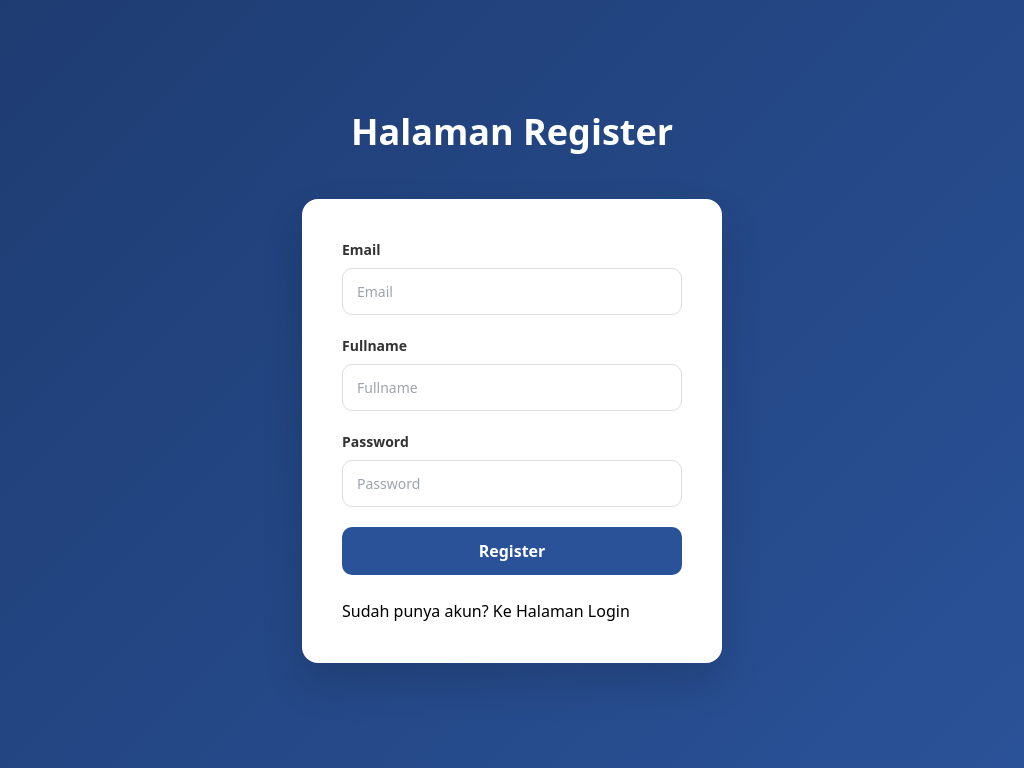
Scenario: Register Page › api error register
Type "test@mail.com" into the field with placeholder "Email" at (512, 292), box [342,268,682,315]
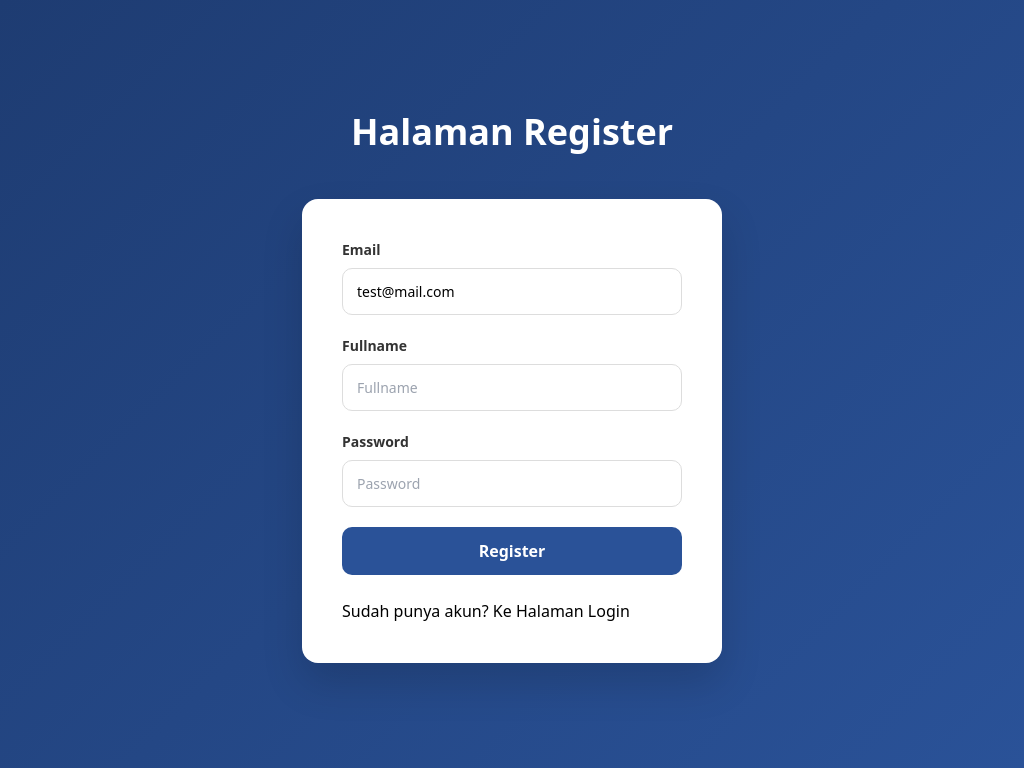
Type "Test User" into the field with placeholder "Fullname" at (512, 388), box [342,364,682,411]
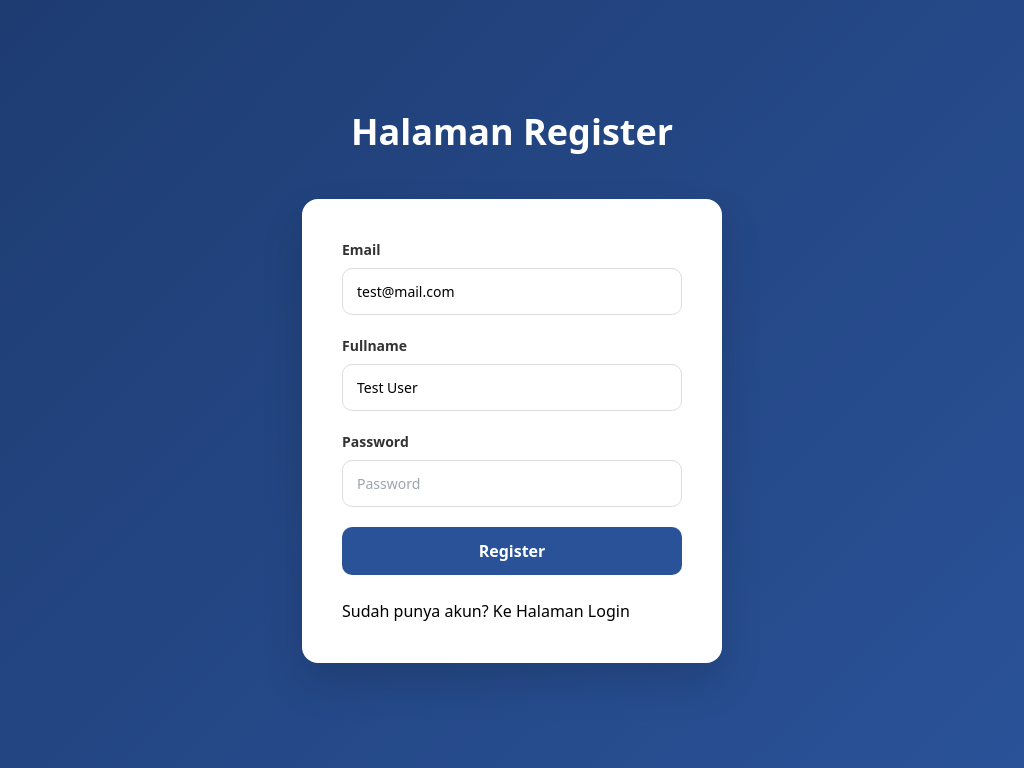
Type "123456" into the password field with placeholder "Password" at (512, 484), box [342,460,682,507]
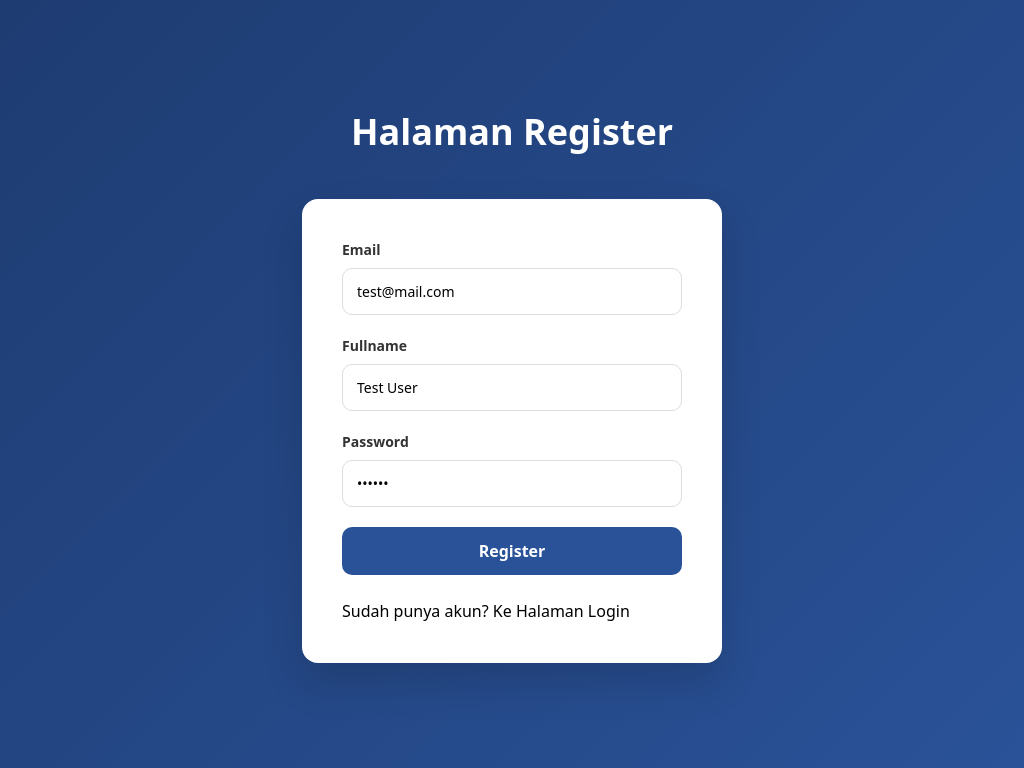
Submit the form from the button, box [342,527,682,575]
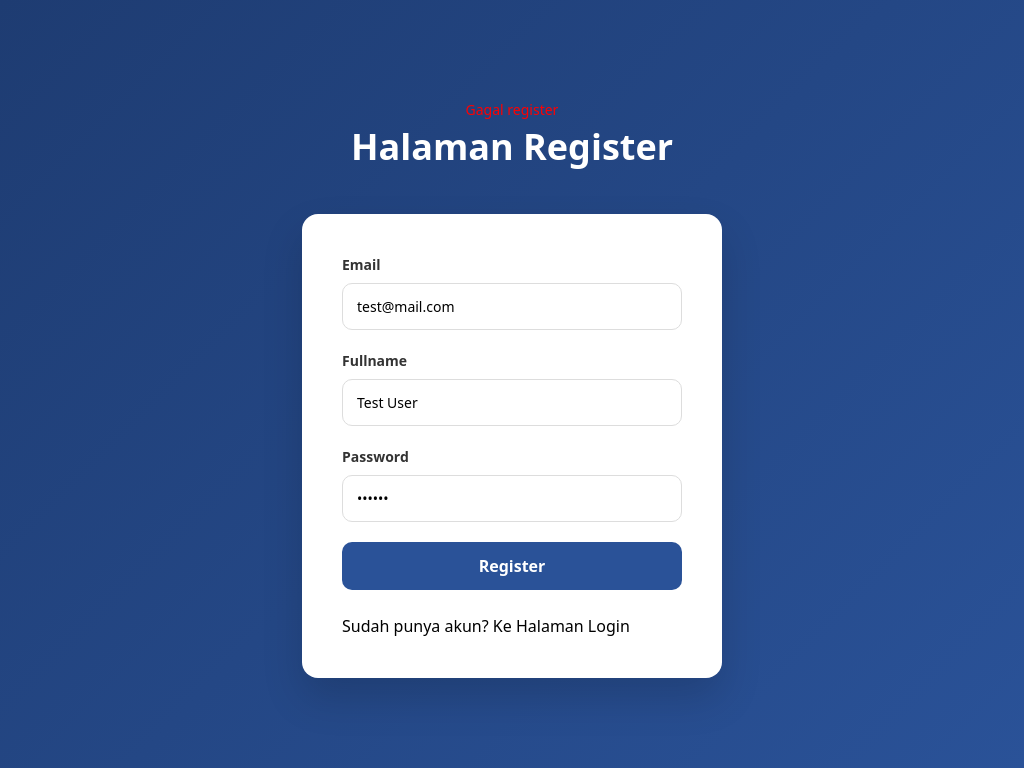
Check: the text "Gagal register" is shown, box [466,98,558,120]
